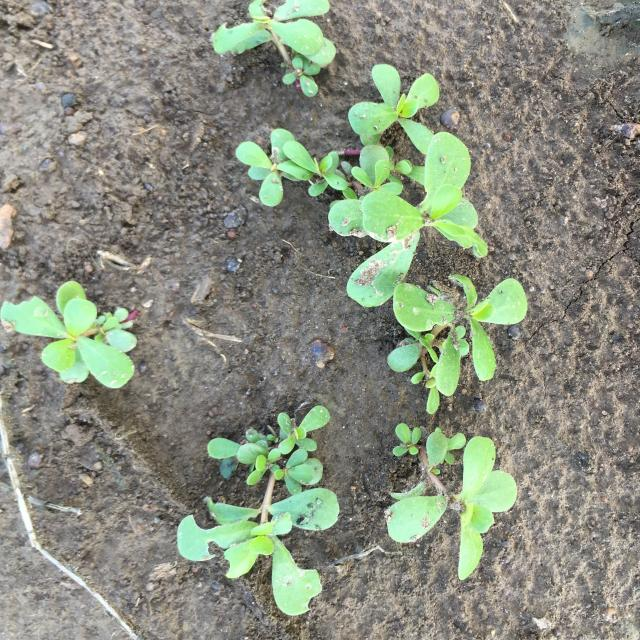Purslane: (235, 64, 488, 307), (178, 405, 340, 616), (386, 422, 518, 580), (387, 274, 527, 414), (0, 281, 137, 388), (212, 0, 336, 97)
